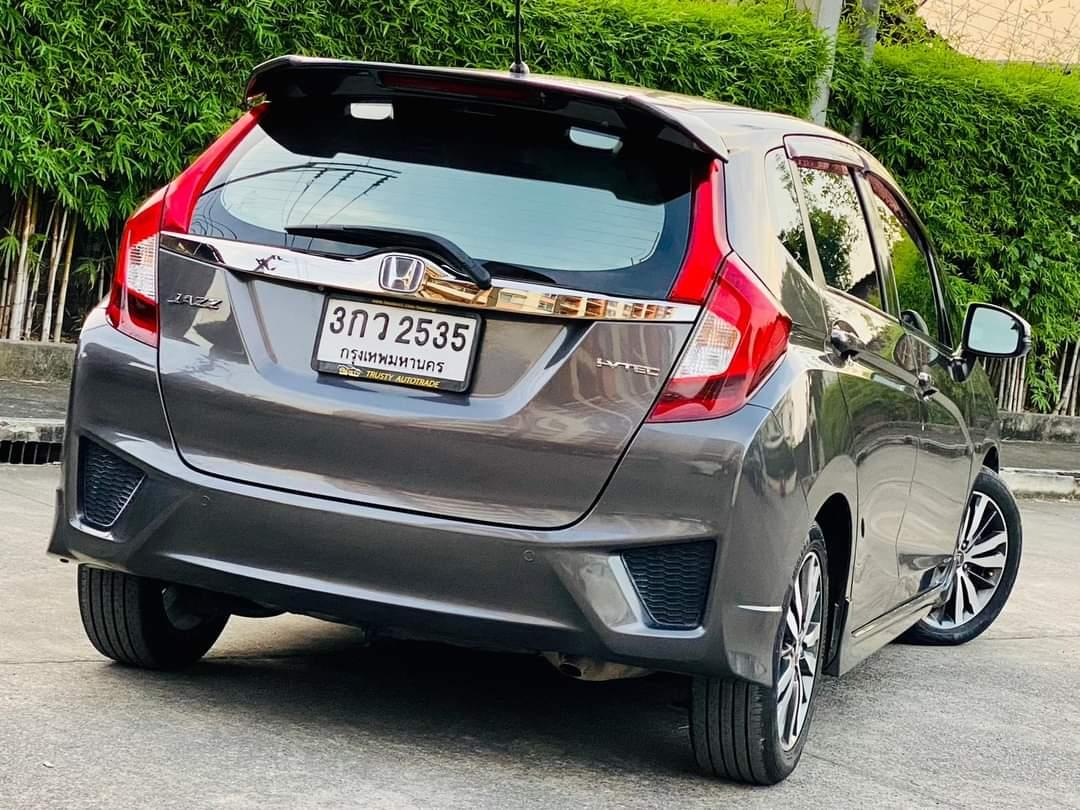license-plate: (312, 283, 484, 403)
